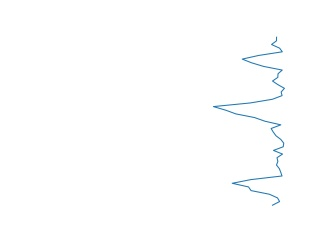underwaterNaturalLevee: (210, 35, 289, 206)
